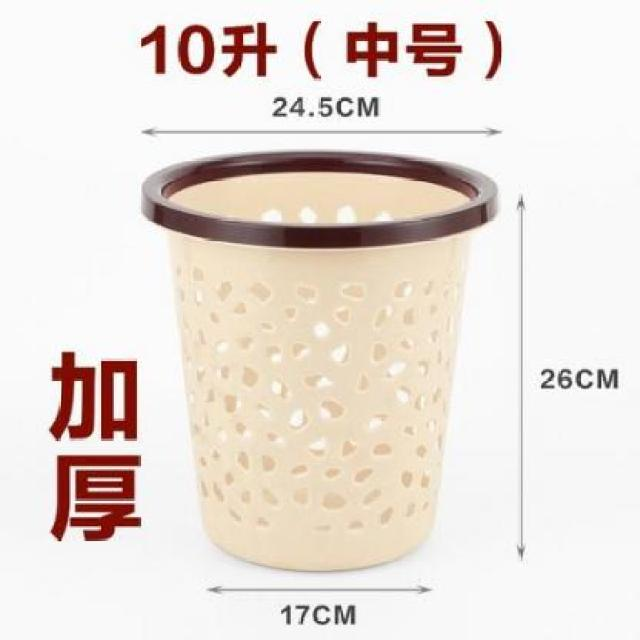dustbin: (135, 143, 502, 579)
